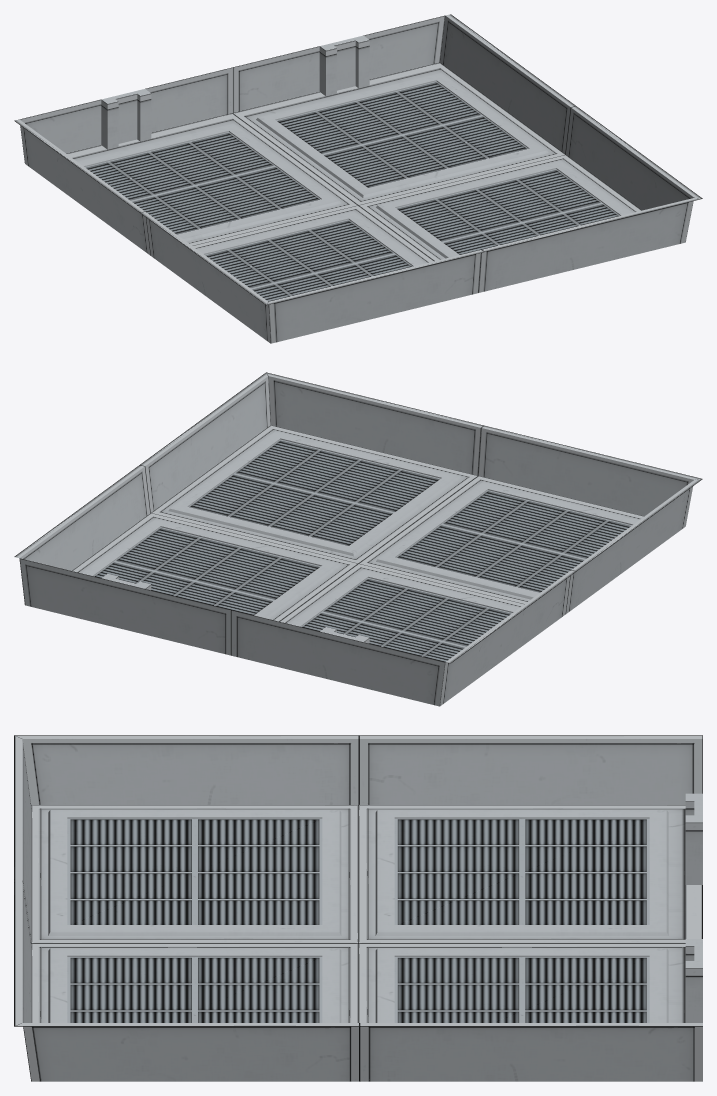
The model's file is Lift_01_Bottom.FBX.
The picture shows the model from 3 angles, top to bottom: view 1: azimuth 30°, elevation 25°; view 2: azimuth 150°, elevation 25°; view 3: azimuth 270°, elevation 25°; orthographic projection. The views are drawn at different scales.
Visible parts, largest first — view 1: Lift_01_Bottom; view 2: Lift_01_Bottom; view 3: Lift_01_Bottom.
Part boxes in pixels (x1=…): Lift_01_Bottom: x1=14, y1=14, x2=702, y2=343; Lift_01_Bottom: x1=14, y1=372, x2=702, y2=706; Lift_01_Bottom: x1=14, y1=735, x2=702, y2=1081.
Size of the model in its own units: 4 by 0.4 by 4.
2 materials, 2 textured.
